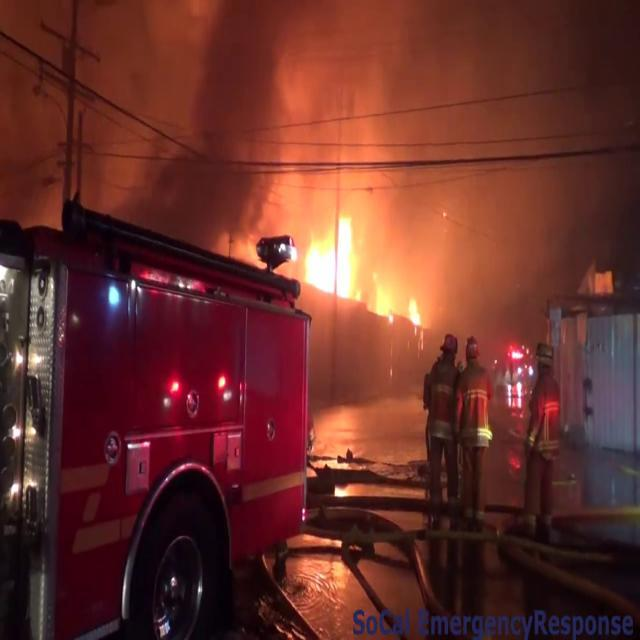Fire: (286, 205, 424, 319), (286, 206, 368, 308)
Smoke: (44, 0, 624, 238)
